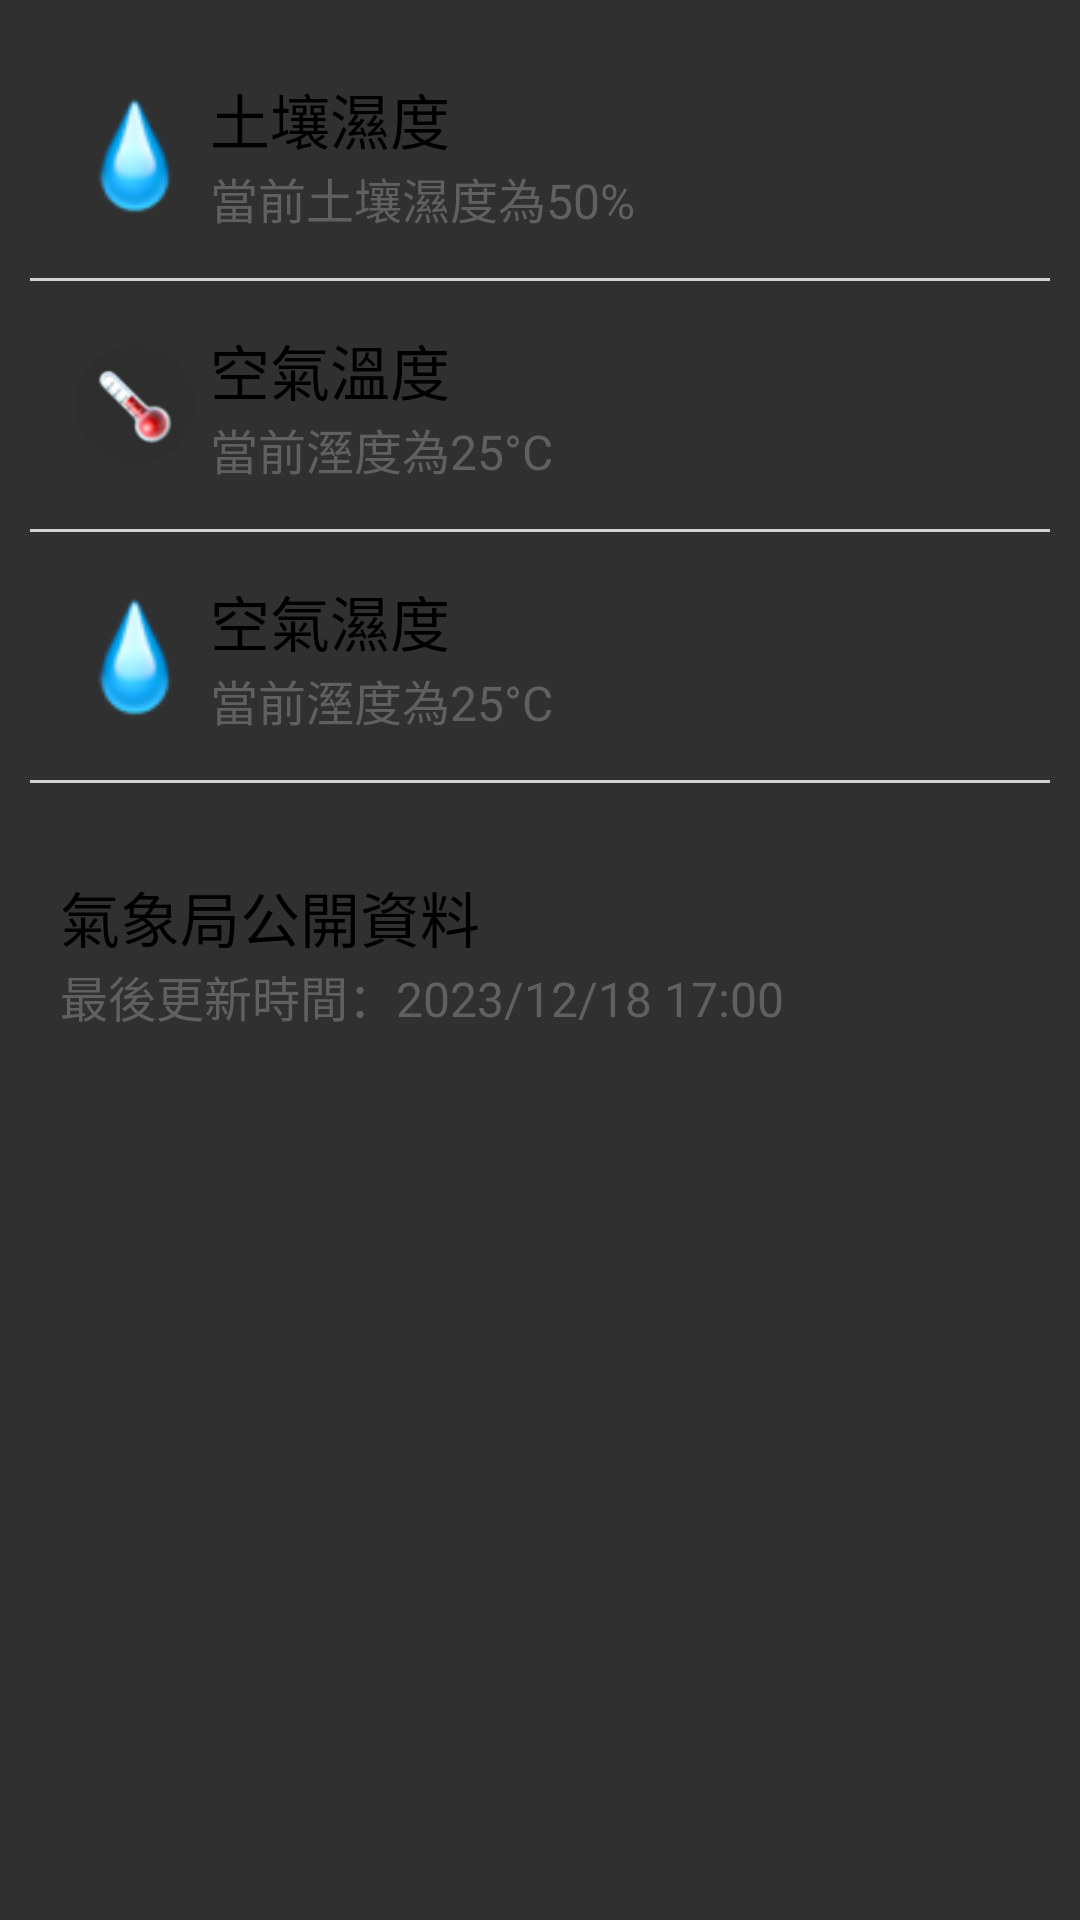

Where icons sit on this 1080px x 1920px app screen, as [x1,y1,x2,y2]:
thermometer iamge: [99,371,171,443]
water: [99,99,170,212], [99,599,170,715]
